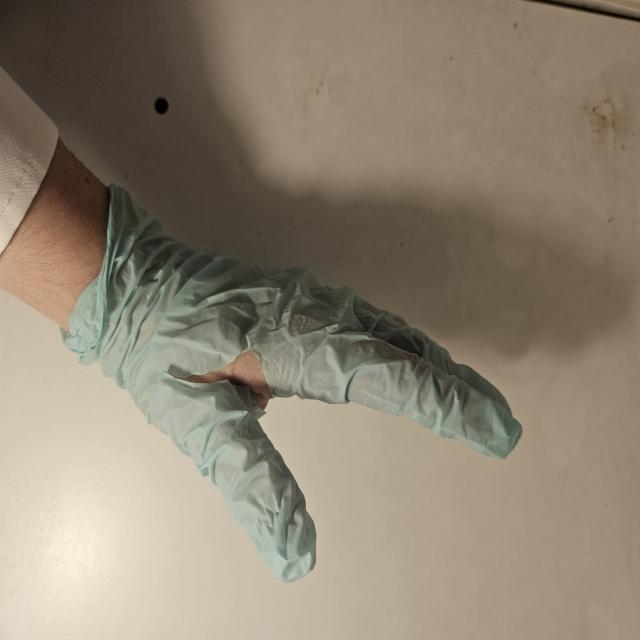gloves_damaged: (63, 179, 531, 585)
